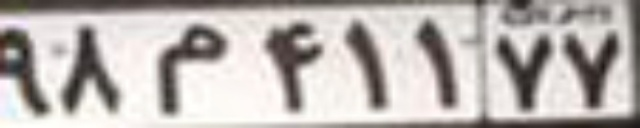1: (342, 19, 390, 108), (409, 18, 455, 109)
4: (262, 18, 323, 111)
7: (562, 30, 627, 109), (496, 32, 556, 109)
8: (60, 25, 122, 114)
9: (1, 28, 50, 115)
mim: (154, 24, 229, 113)
